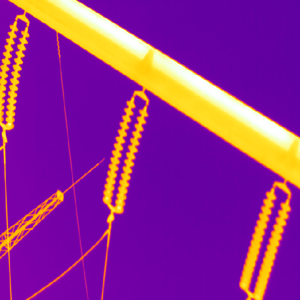insulator: (238, 187, 294, 300), (102, 95, 150, 213), (0, 18, 30, 131)
